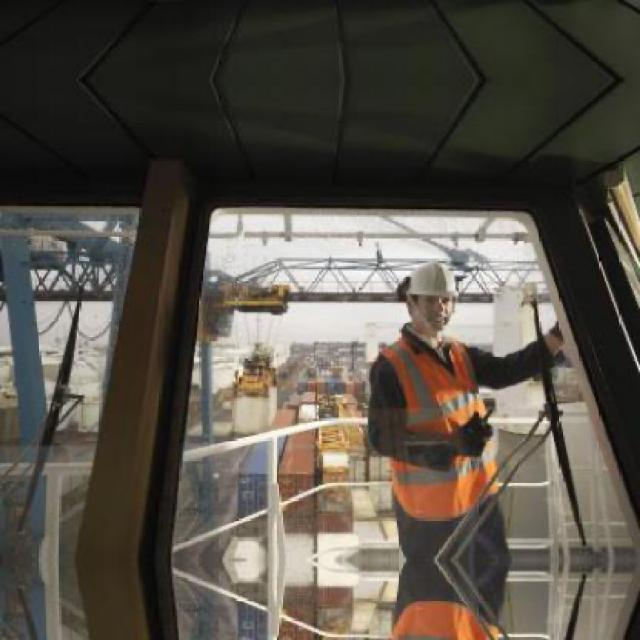helmet: (397, 257, 463, 334)
